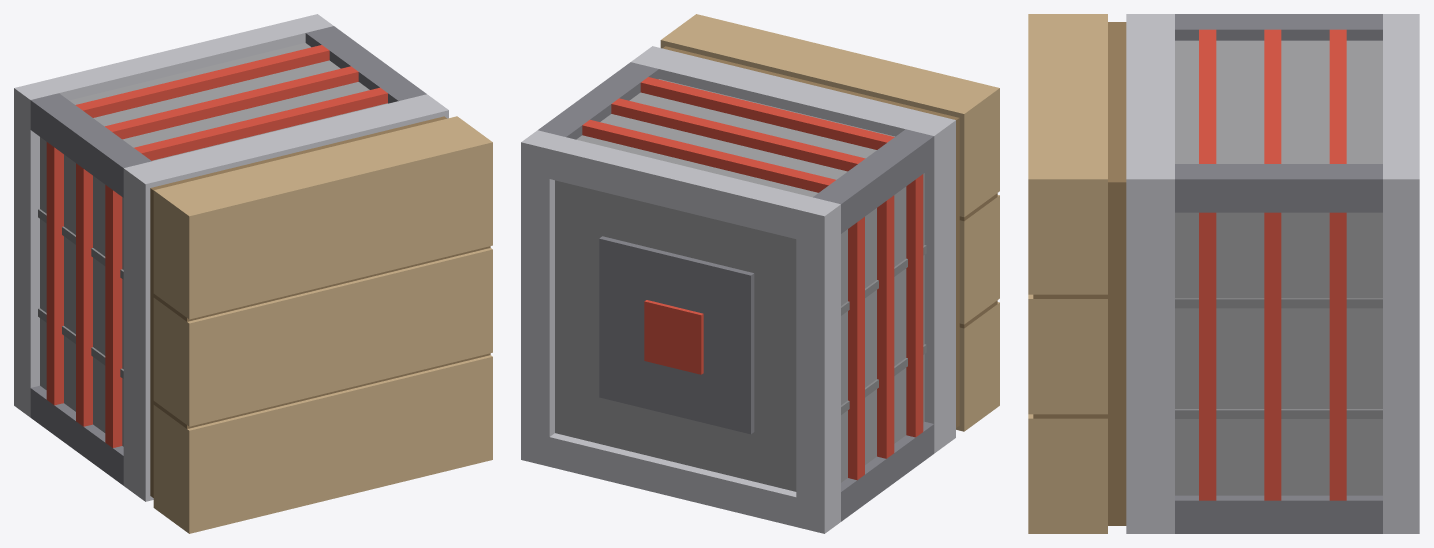
Rendered from piston_3.gltf.
3 renders of one model, left to right at view 1: azimuth 30°, elevation 25°; view 2: azimuth 150°, elevation 25°; view 3: azimuth 270°, elevation 25°, orthographic. The views are drawn at different scales.
Visible parts, largest first — view 1: piston_3; view 2: piston_3; view 3: piston_3.
Part boxes in pixels (bbox=[...]): piston_3: bbox=[14, 14, 492, 533]; piston_3: bbox=[521, 14, 999, 533]; piston_3: bbox=[1028, 14, 1419, 533].
Bounding box in the file's own units: 1 × 1 × 1.
